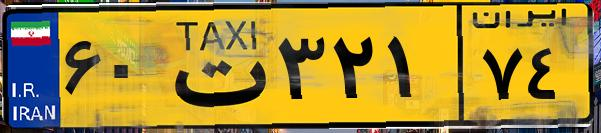0: (110, 28, 158, 98)
1: (385, 28, 445, 110)
2: (330, 28, 385, 110)
3: (270, 28, 330, 110)
4: (525, 38, 570, 115)
6: (57, 26, 110, 100)
7: (475, 38, 525, 113)
ت: (158, 12, 270, 120)
